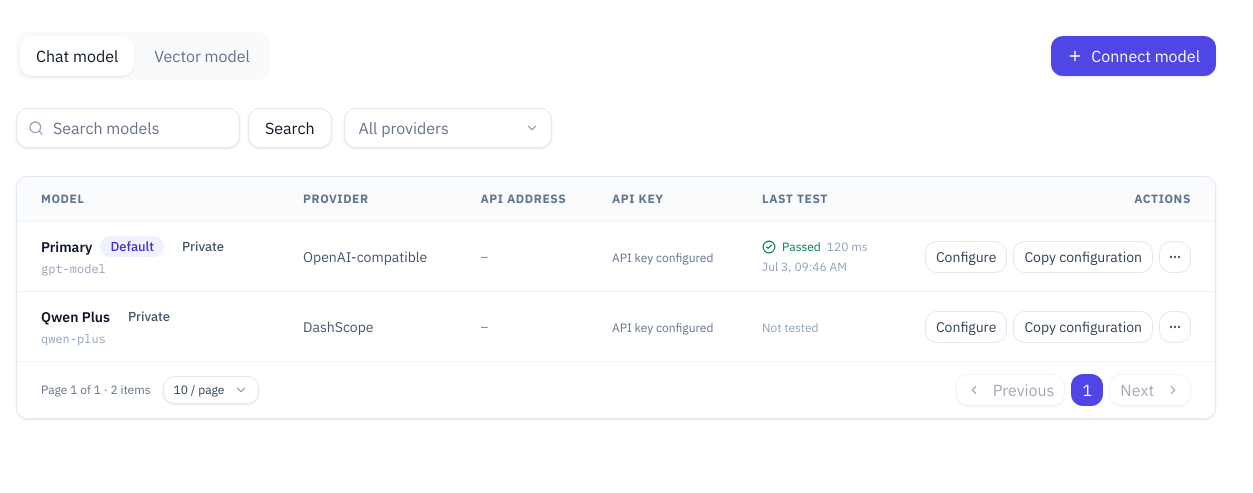
model settings experience › shows connection success as a temporary top toast instead of a list footer message
Click the button named "More actions" in the row of "Qwen Plus" at [1175, 326], box [1159, 310, 1191, 342]
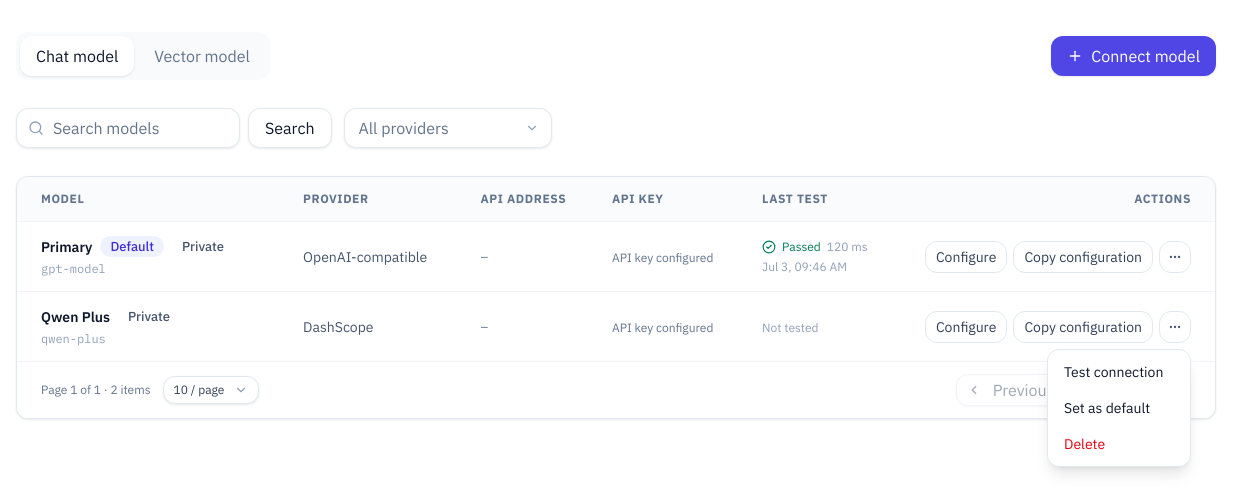
Click the menu item "Test connection" at [1114, 372], box [1064, 363, 1163, 381]
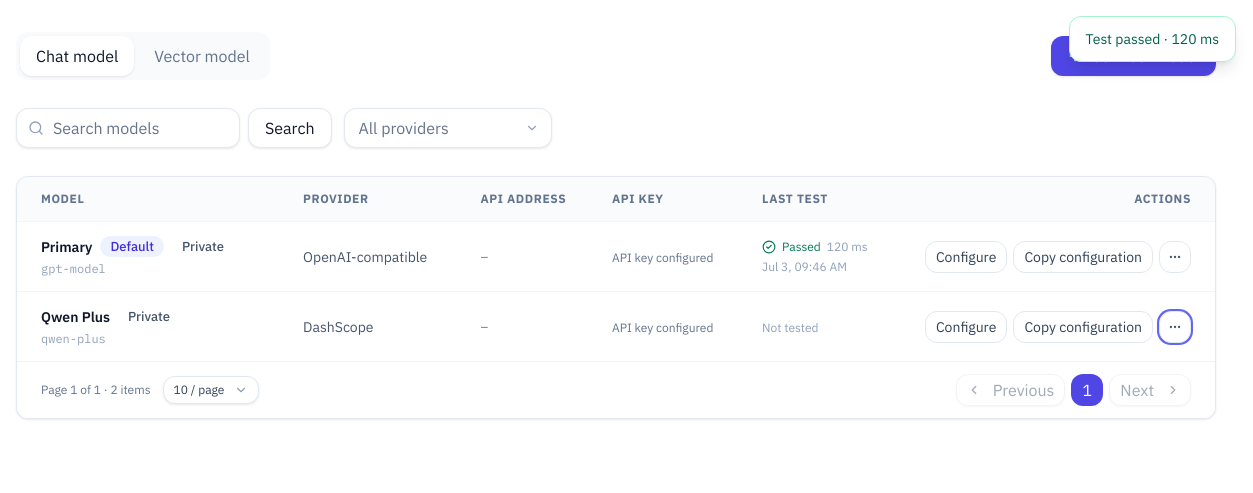
Expected: the message named "Notification" shows "Test passed", [1086, 30, 1219, 48]
